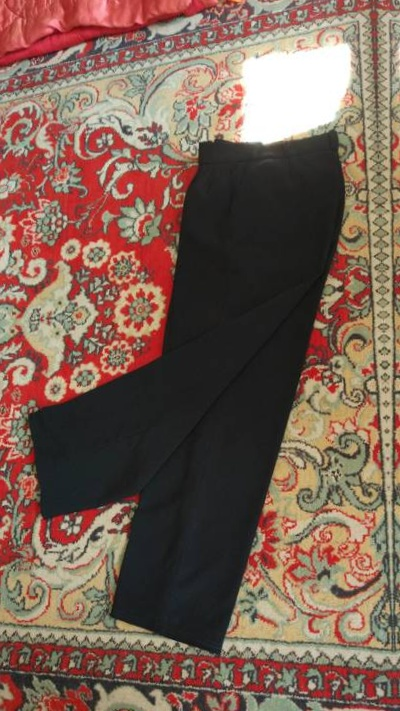Pants: (25, 74, 357, 669)
